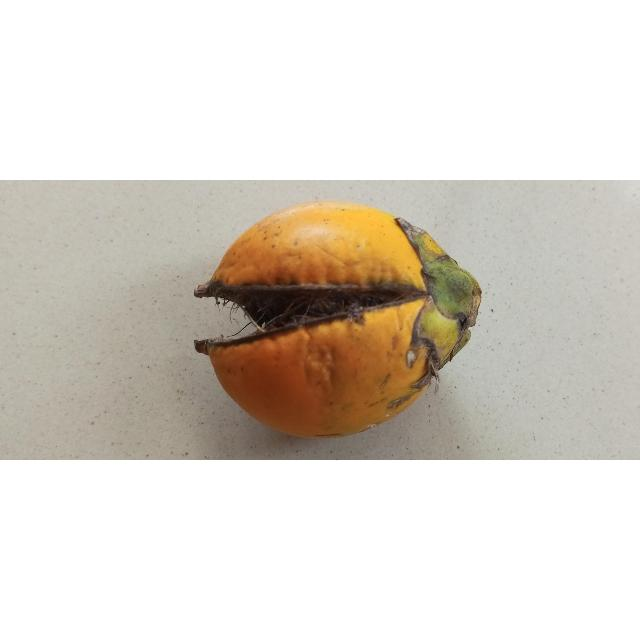damaged: (194, 201, 481, 439)
